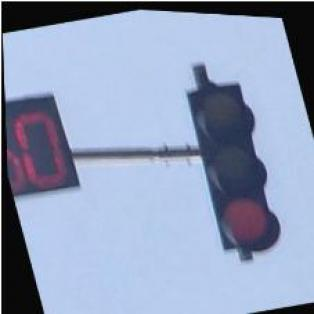Semaforo Rojo: (181, 73, 286, 256)
